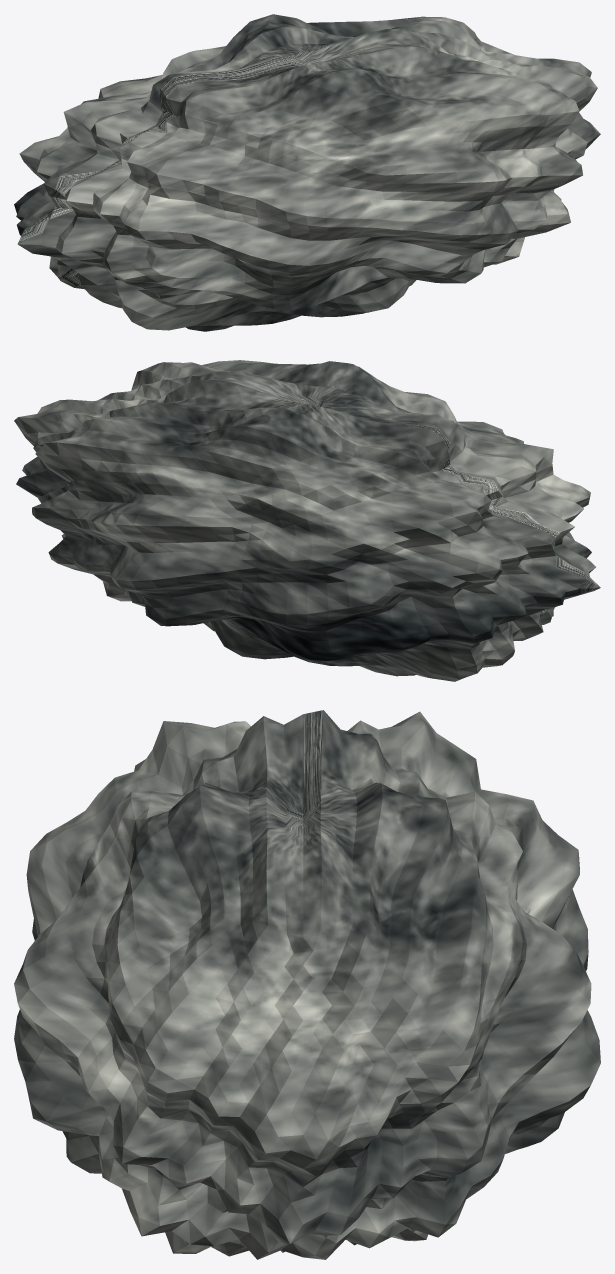
The model's file is giant_03.glb.
3 renders of one model, top to bottom at view 1: azimuth 30°, elevation 25°; view 2: azimuth 150°, elevation 25°; view 3: azimuth 270°, elevation 25°, orthographic. The views are drawn at different scales.
Visible parts, largest first — view 1: rock; view 2: rock; view 3: rock.
Boxes of the visible parts, <box> form: rock: <box>14,14,600,331</box>; rock: <box>14,360,600,681</box>; rock: <box>14,710,600,1259</box>.
Size of the model in its own units: 36.06 by 15.35 by 20.94.
1 material, 1 textured.
